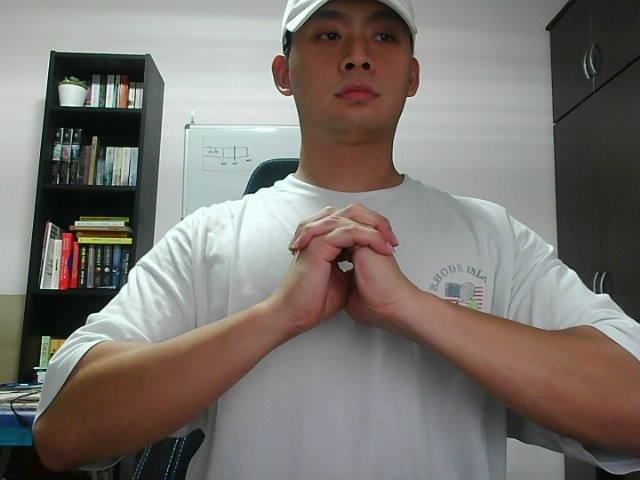Serpent: (275, 187, 425, 367)
